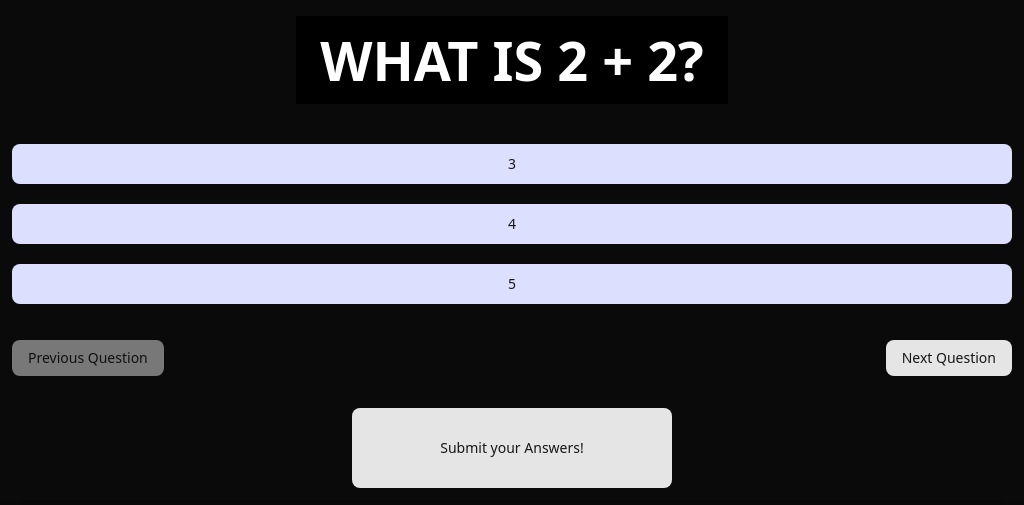
Test: QuestionCard Component › Navigation › should navigate to next question
What coordinates should you click on to do the following:
click the button "Next Question"
I would click on:
 (949, 358)
Its box is [886,340,1012,376].
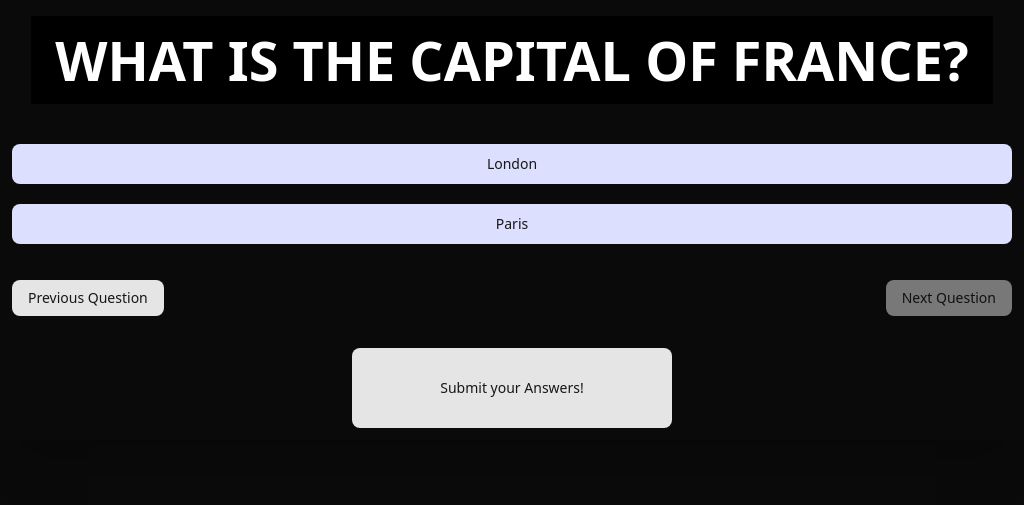
Check: the heading "What is the capital of France?" is shown, box [31,16,993,104]
